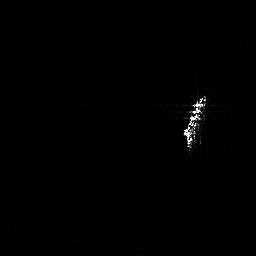ship: (177, 91, 209, 154)
